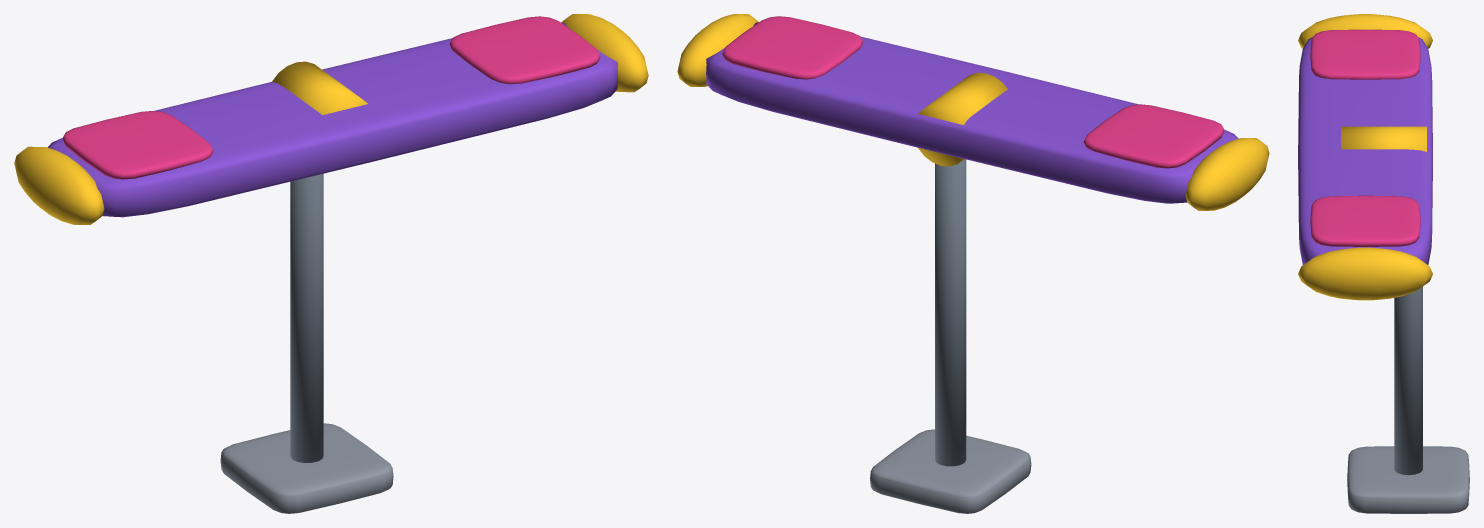
File: rotating_platform.glb
3 views of the same model, side by side, from view 1: azimuth 30°, elevation 25°; view 2: azimuth 150°, elevation 25°; view 3: azimuth 270°, elevation 25° (orthographic). The views are drawn at different scales.
Visible parts, largest first — view 1: Platform, Pole; view 2: Platform, Pole; view 3: Platform, Pole.
Boxes of the visible parts, <box> form: Platform: <box>14,14,648,224</box>; Pole: <box>220,173,393,513</box>; Platform: <box>677,14,1269,210</box>; Pole: <box>870,159,1031,513</box>; Platform: <box>1298,14,1432,300</box>; Pole: <box>1347,286,1469,513</box>.
Bounding box in the file's own units: 4.89 × 3.25 × 1.4.
